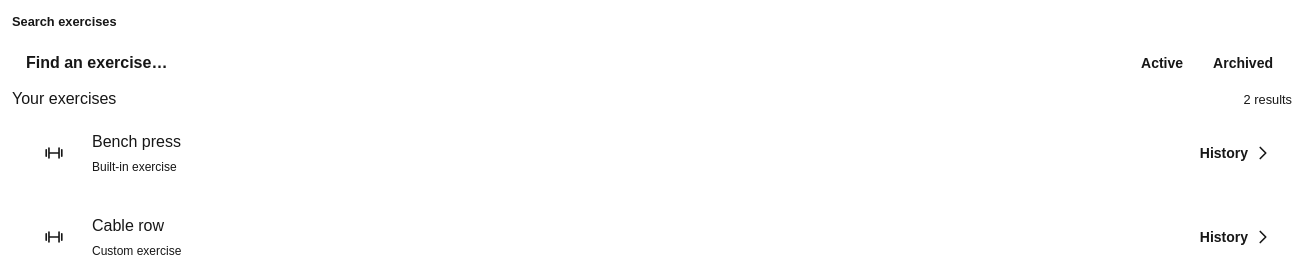
Test: V2 library › searches case-insensitively and keeps archived exercises out of active results
The image size is (1304, 272).
In the search field: x=559, y=63 x1=12 y1=39 x2=1106 y2=87, type " ROW "
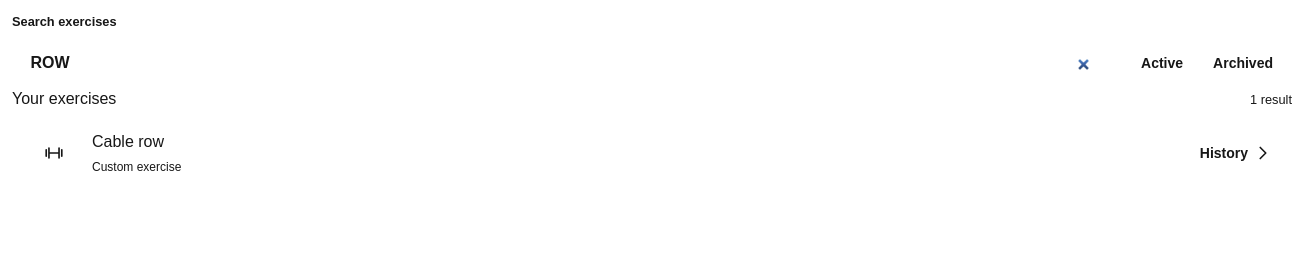
Expected: the heading "Cable row" is shown, x1=92 y1=133 x2=164 y2=150
Result: the heading "Bench press" is gone
Click the button "Archived": x=1243, y=63 x1=1198 y1=43 x2=1288 y2=83
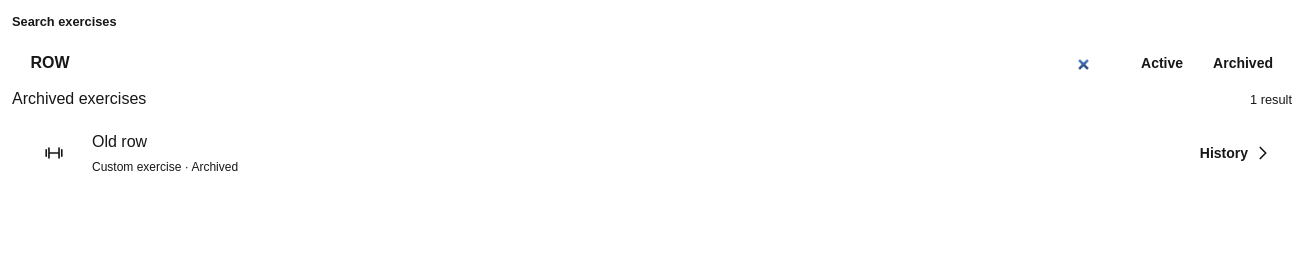
Result: the heading "Old row" is shown at x1=92 y1=133 x2=147 y2=150
Result: the heading "Cable row" is gone
